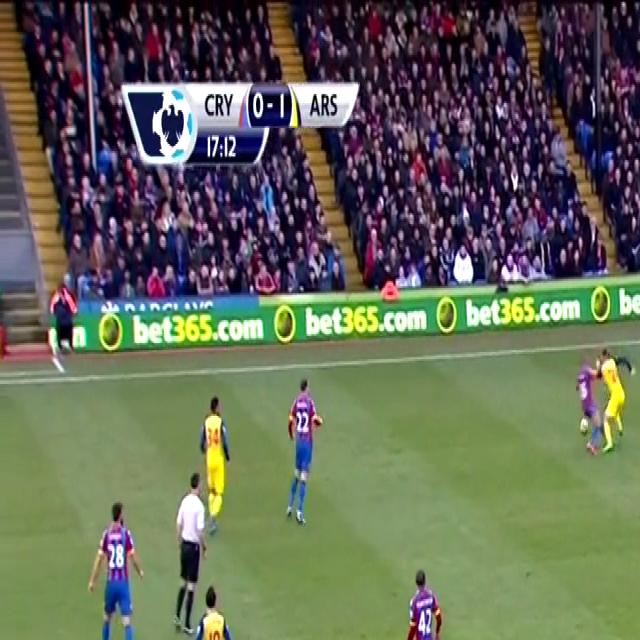ball: (578, 416, 590, 434)
referee: (167, 476, 225, 640)
soccer-player: (83, 498, 156, 640), (274, 373, 334, 531), (190, 390, 242, 519), (390, 567, 459, 640), (602, 344, 634, 464), (189, 585, 228, 640)
